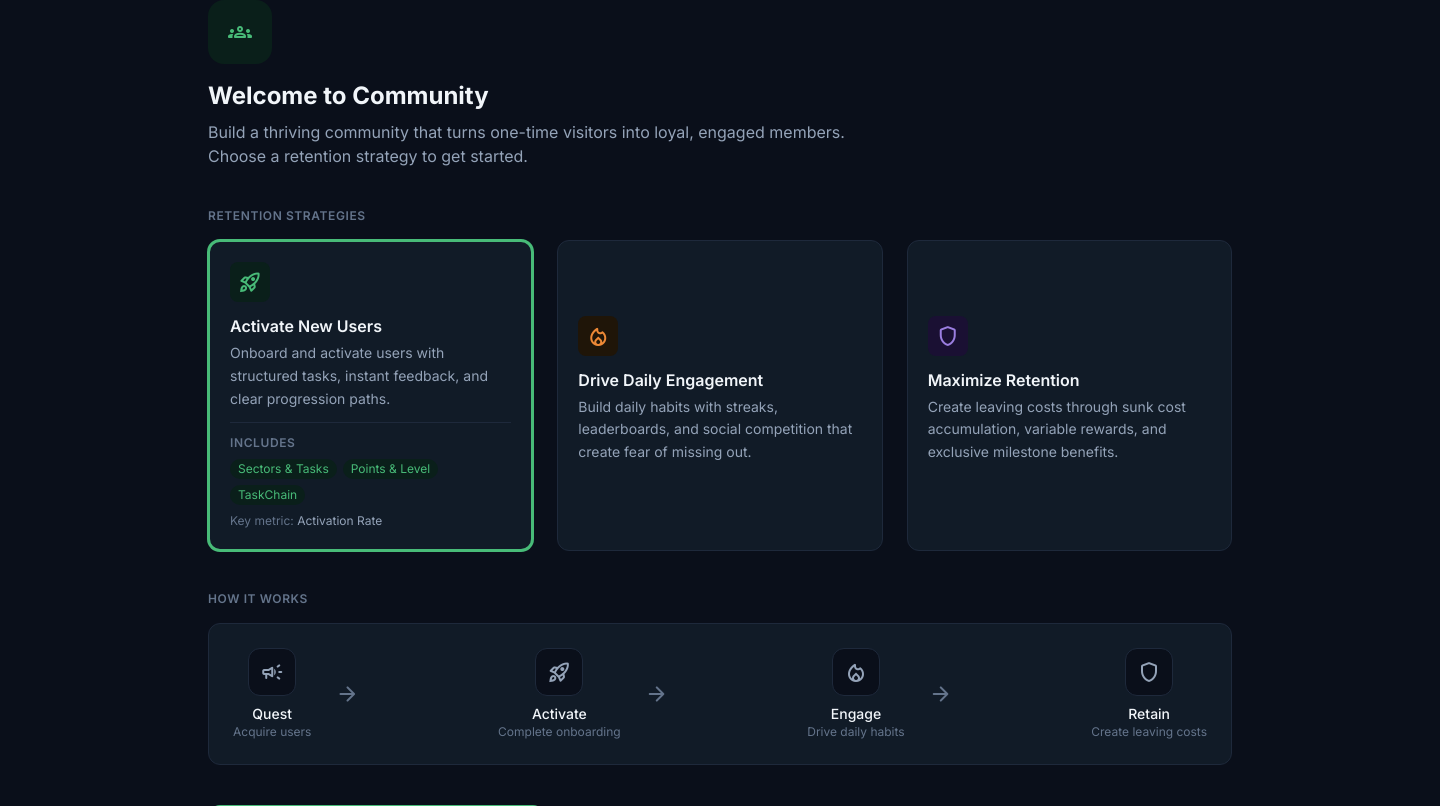
Test: B09CommunityEmpty › selects a different strategy on click
Step 1. Click the button that starts with "Maximize Retention" → x=1069, y=396, box x1=907 y1=240 x2=1232 y2=551
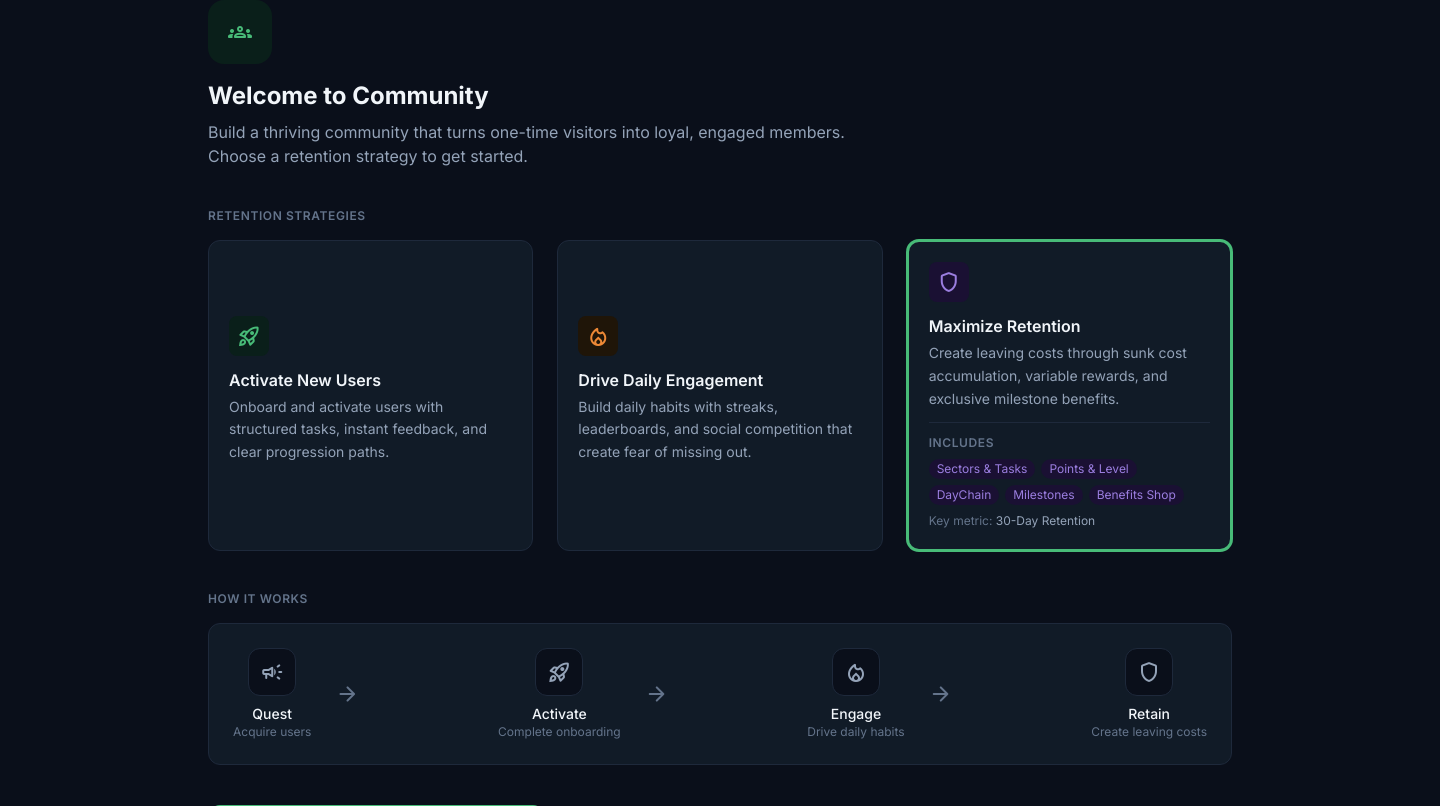
Expected: the text "Benefits Shop" is shown, x1=1089 y1=485 x2=1184 y2=505
Expected: the text "Milestones" is shown, x1=1005 y1=485 x2=1083 y2=505
Expected: the text "30-Day Retention" is shown, x1=996 y1=513 x2=1095 y2=528
